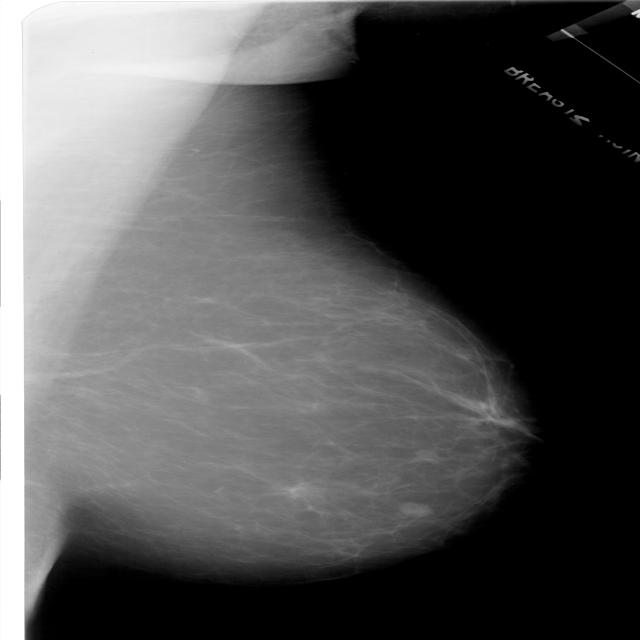cancer: (414, 390, 564, 458), (261, 470, 334, 527)
